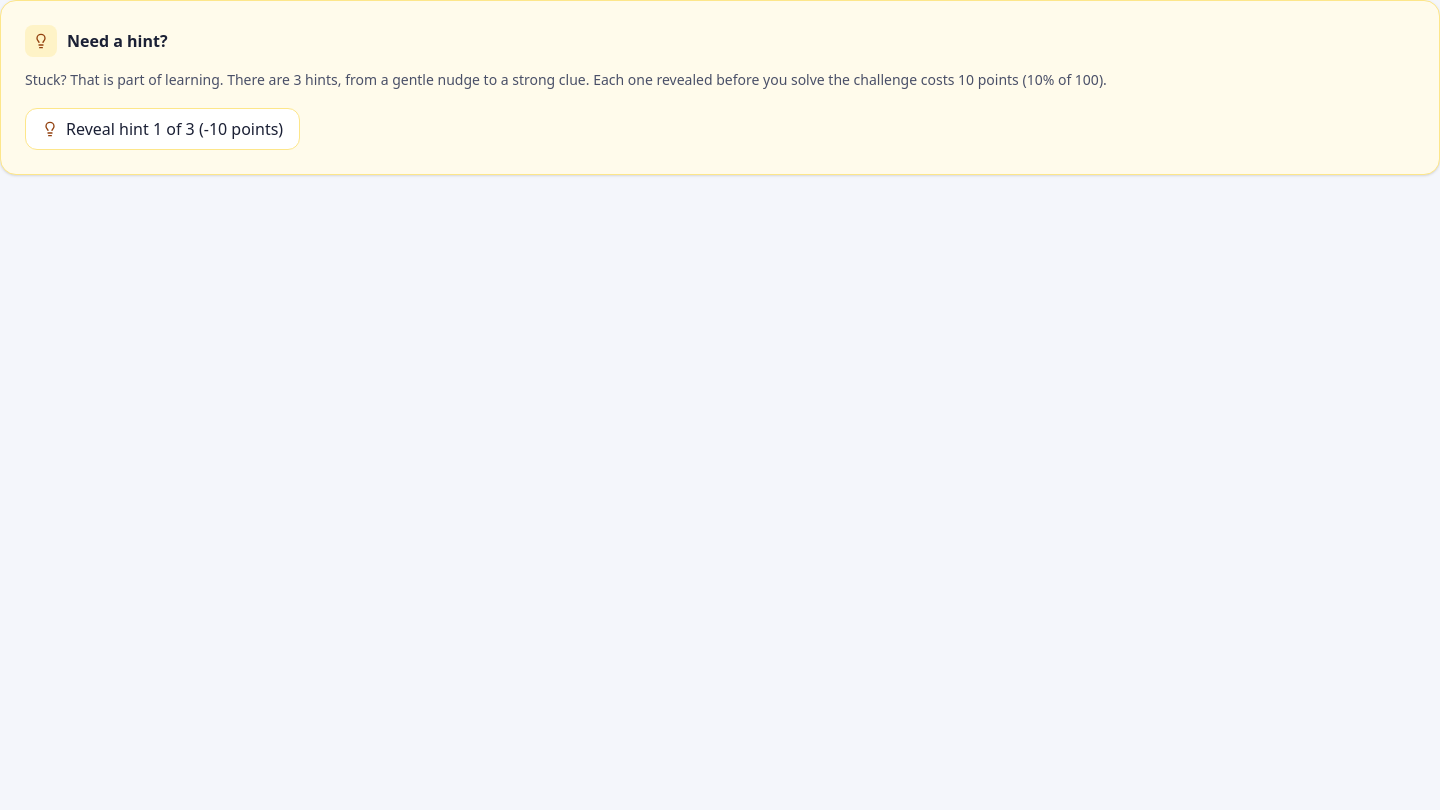
Test: HintsPanel › reports a server error
The width and height of the screenshot is (1440, 810).
What coordinates should you click on to do the following:
click the button "Reveal hint 1 of 3 (-10 points)"
I would click on:
 (163, 129)
Its box is [25,108,300,150].
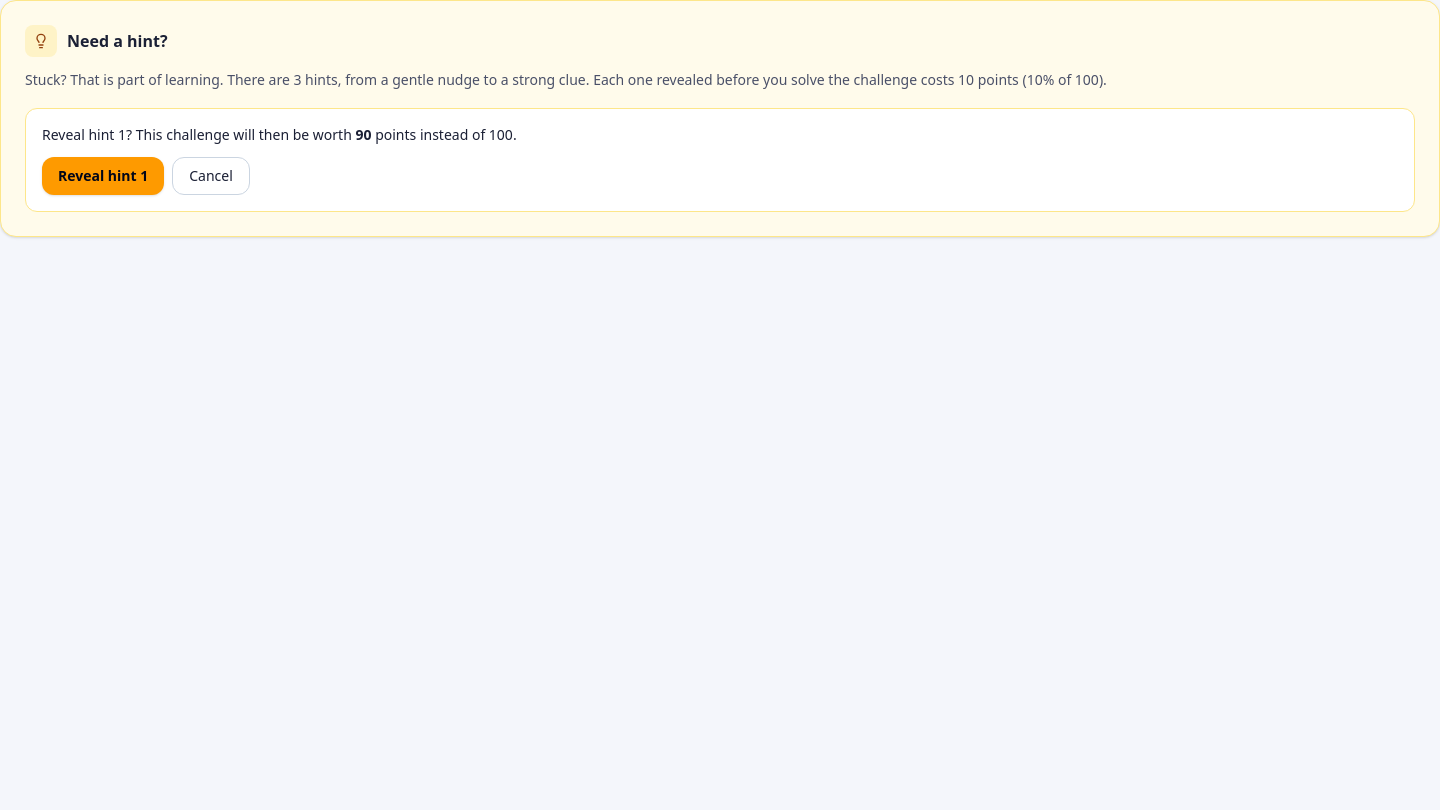
What coordinates should you click on to do the following:
click the button "Reveal hint 1"
I would click on:
 (103, 176)
Its box is [42,157,164,195].
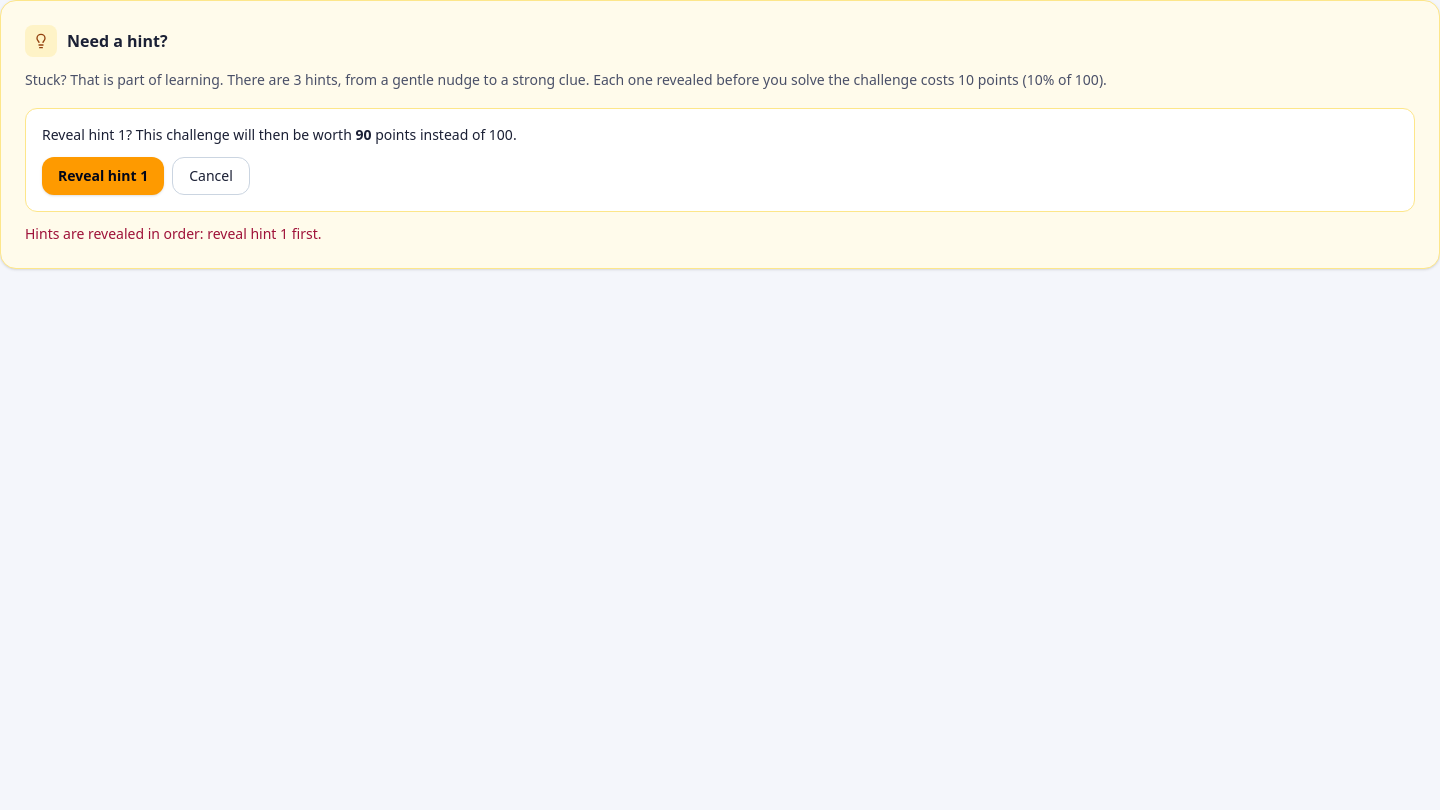
Expected: the message shows "Hints are revealed in order", [25,224,321,243]
